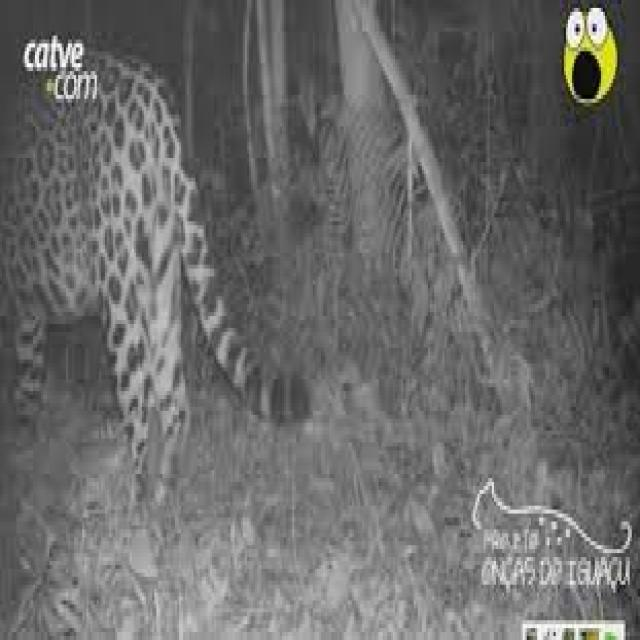Jaguar: (0, 36, 313, 510)
